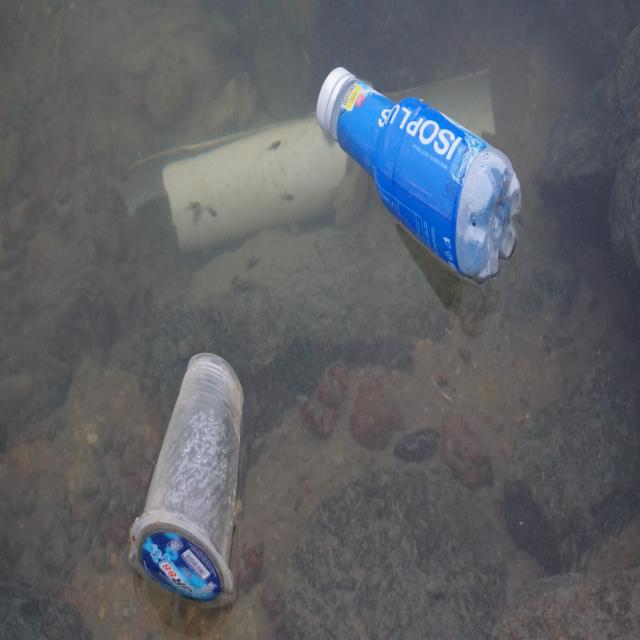Botol Plastik: (315, 60, 524, 287)
Bungkus Minuman: (123, 346, 250, 612)
